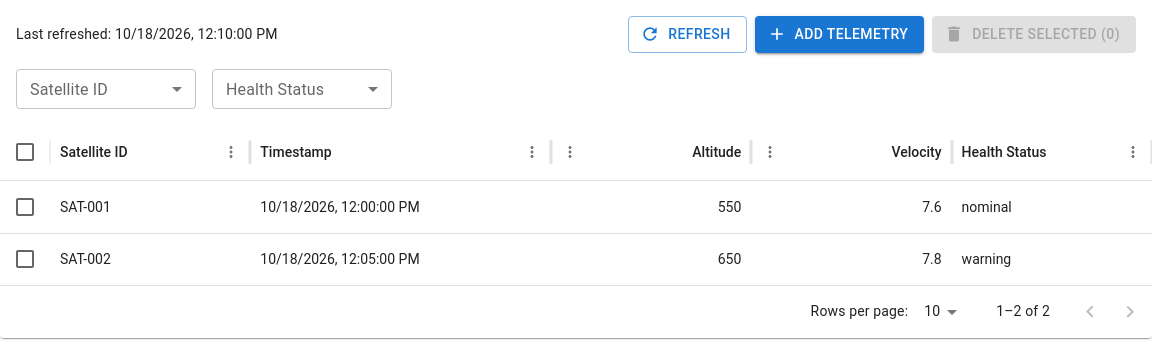
Test: TelemetryTable › filters rows by satellite ID
What coordinates should you click on to do the following:
click the 1st dropdown named "satellite id"
I would click on:
 (106, 88)
Its box is [16,68,196,108].
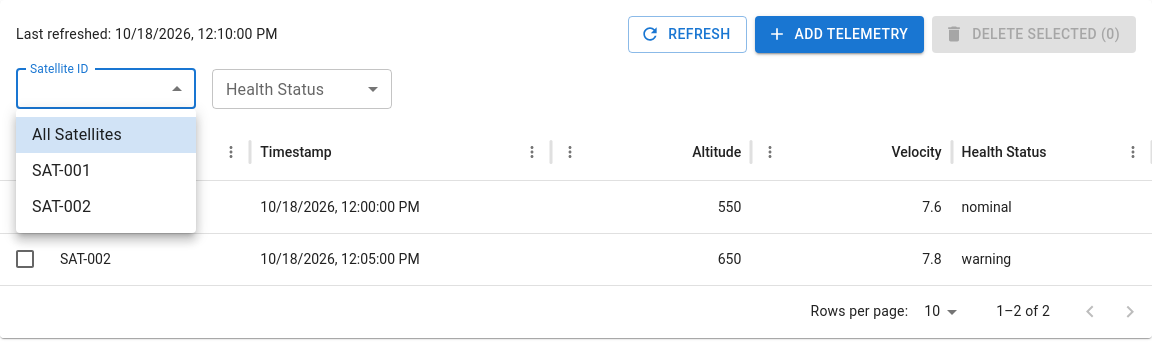
What coordinates should you click on to do the following:
click the option "SAT-001"
I would click on:
 (62, 170)
Its box is [32,161,91,180].
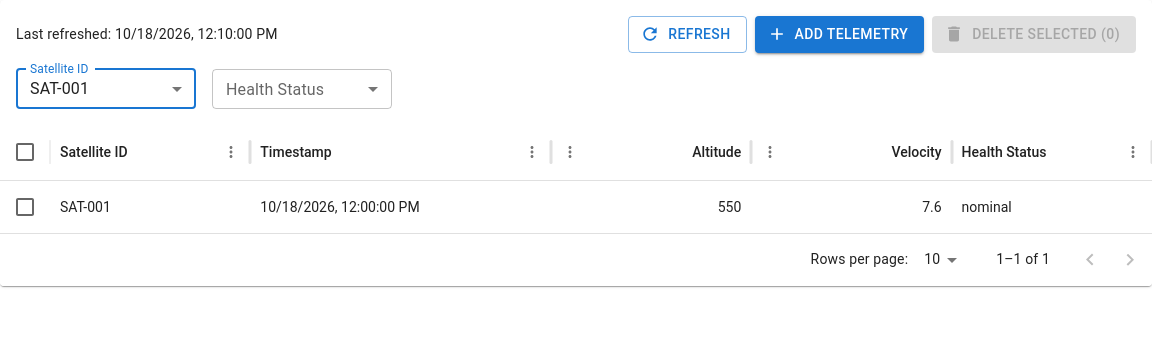
expect the text "SAT-001" is shown: met, box [60,198,111,214]
expect the text "SAT-002" is gone: met
